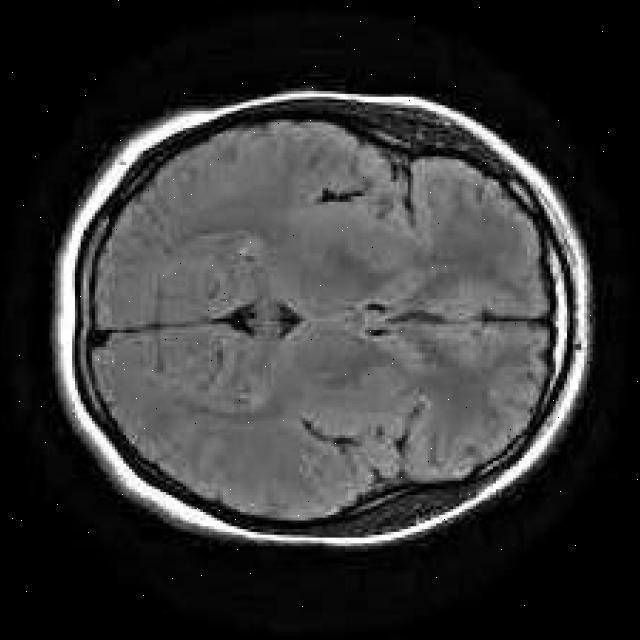No_Tumor: (54, 91, 589, 545)
